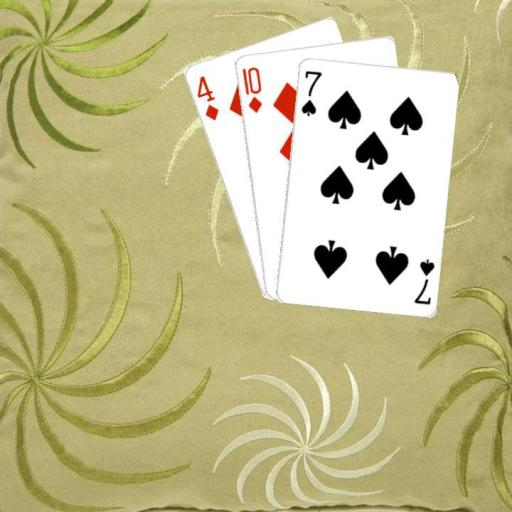10D: (238, 63, 263, 114)
4D: (193, 73, 220, 122)
7S: (410, 255, 436, 306), (297, 67, 323, 117)
